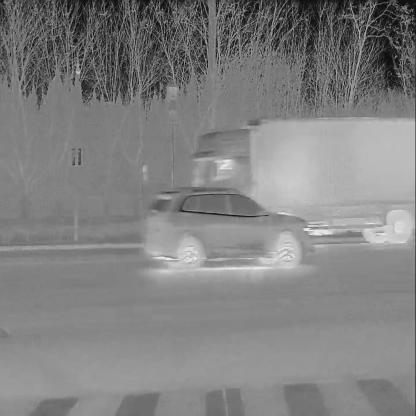car: (146, 183, 314, 276)
truck: (189, 112, 415, 247)
